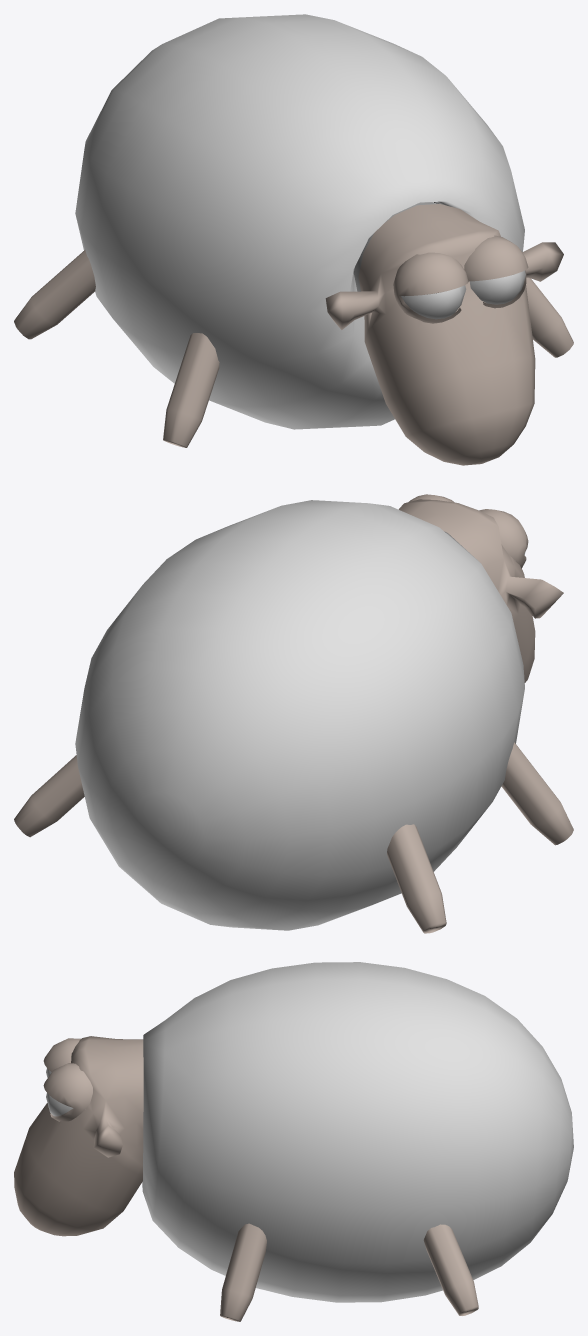
The model's file is sheep.fbx.
The picture shows the model from 3 angles, top to bottom: view 1: azimuth 30°, elevation 25°; view 2: azimuth 150°, elevation 25°; view 3: azimuth 270°, elevation 25°; orthographic projection. The views are drawn at different scales.
Parts seen in each view (by area): view 1: sheep; view 2: sheep; view 3: sheep.
Part boxes in pixels (x1,y1,x2,y2): sheep: [14, 14, 573, 465]; sheep: [14, 494, 573, 933]; sheep: [14, 962, 573, 1321].
Bounding box in the file's own units: 4.13 × 3.3 × 5.49.
